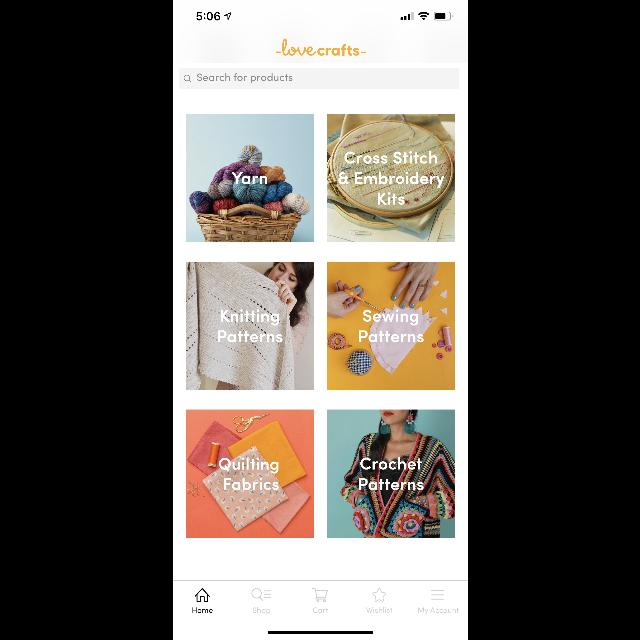icon: (251, 588, 271, 600), (311, 588, 327, 602), (194, 588, 210, 602), (372, 588, 386, 602), (431, 590, 444, 600), (183, 75, 191, 83)
image: (327, 410, 455, 538), (185, 410, 313, 538), (185, 262, 313, 390), (327, 262, 455, 390), (327, 114, 455, 242), (185, 114, 313, 242), (275, 38, 365, 56)
input: (178, 68, 458, 90)
text: (338, 151, 444, 205), (358, 310, 424, 342), (359, 458, 423, 490), (217, 310, 281, 342), (218, 458, 278, 490), (196, 73, 292, 81), (231, 172, 267, 184), (418, 608, 458, 614), (366, 607, 392, 613), (252, 608, 270, 614), (192, 608, 212, 612), (312, 608, 328, 612)
uppertaskbar: (196, 12, 452, 21)
